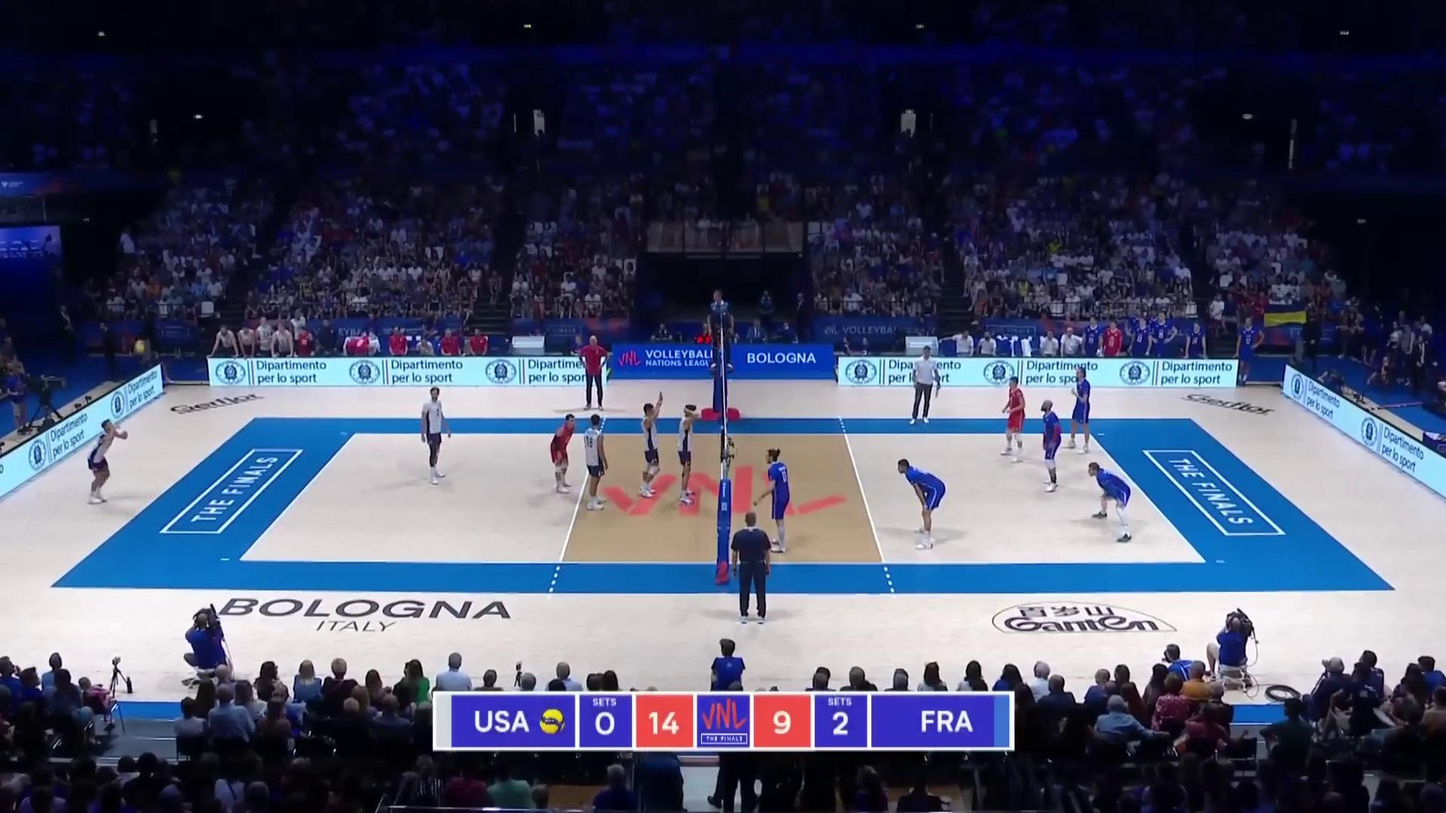player: (898, 456, 946, 551), (1086, 462, 1133, 542), (88, 417, 129, 506), (758, 449, 790, 551), (549, 408, 584, 498), (421, 383, 451, 484), (1042, 399, 1068, 493), (1000, 373, 1027, 457), (677, 404, 699, 506), (640, 393, 661, 497), (584, 415, 606, 512), (1070, 368, 1093, 452)
refree: (733, 516, 777, 624), (707, 291, 734, 369)
